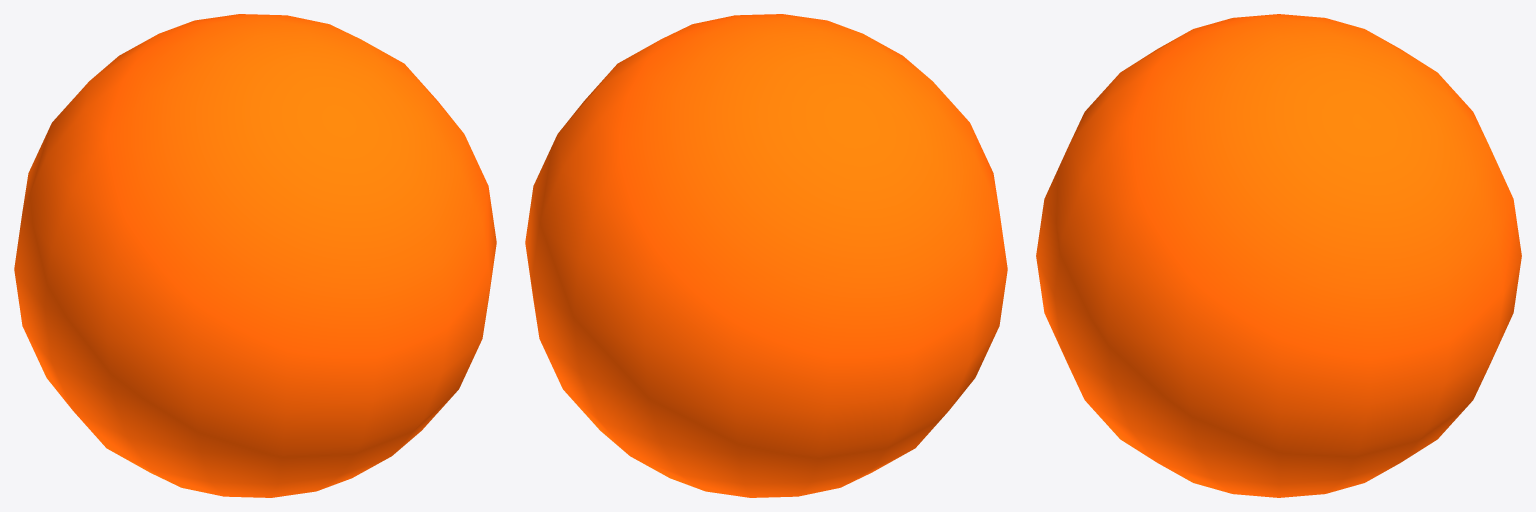
The model's file is Candy_06.glb.
3 renders of one model, left to right at view 1: azimuth 30°, elevation 25°; view 2: azimuth 150°, elevation 25°; view 3: azimuth 270°, elevation 25°, orthographic.
Parts seen in each view (by area): view 1: Candy_06; view 2: Candy_06; view 3: Candy_06.
Part boxes in pixels (x1,y1,x2,y2): Candy_06: (14,14,496,497); Candy_06: (525,14,1007,497); Candy_06: (1036,14,1521,497).
Size of the model in its own units: 1.22 by 1.22 by 1.22.
1 material, 1 textured.
